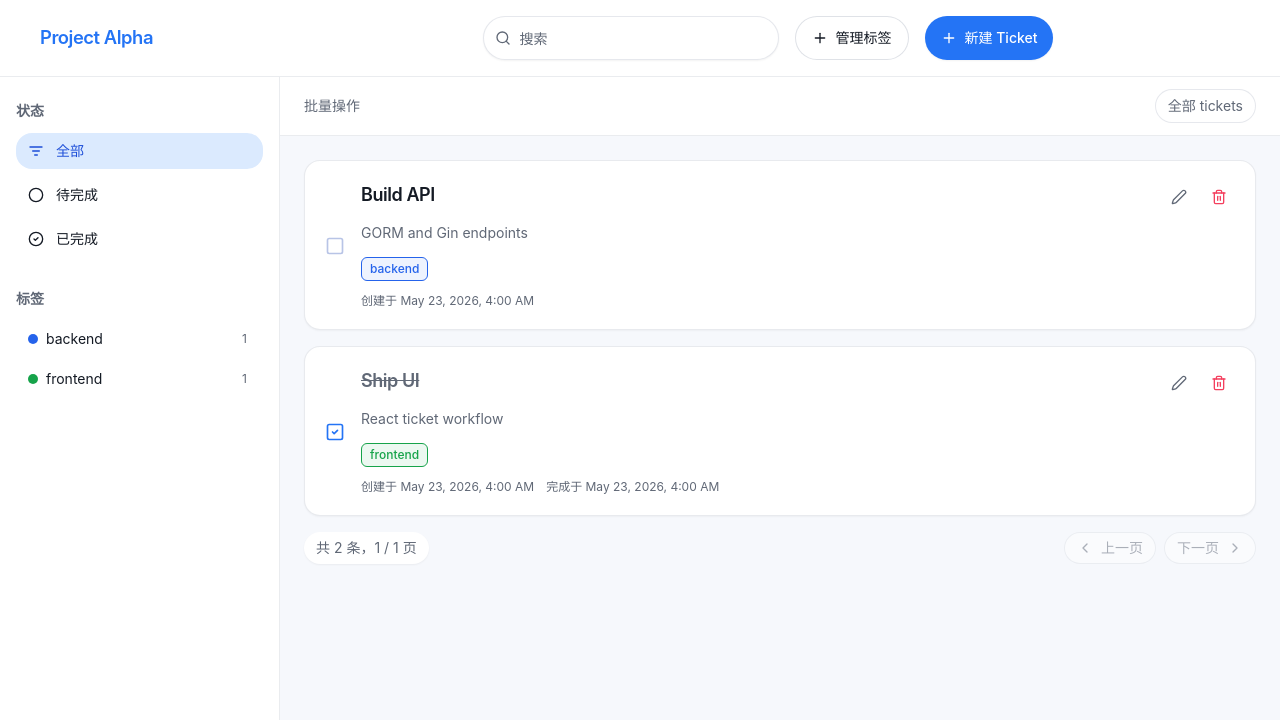
it: App › 按标签筛选 ticket
Expected: the button "Build API" is shown, [361,181,435,209]
What coordinates should you click on to do the following:
click the button "frontend 1"
I would click on:
 (138, 379)
Its box is [16,361,259,397].
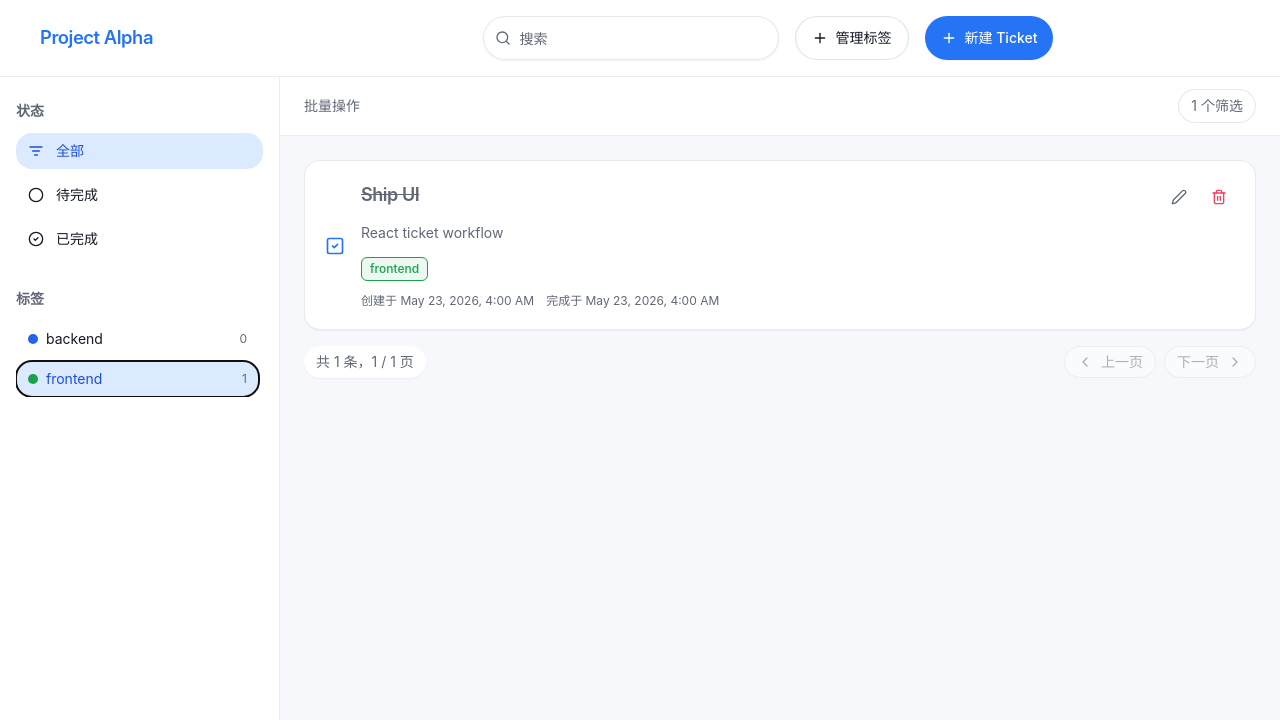
Expected: the button "Ship UI" is shown, [361,181,419,209]
Expected: the button "Build API" is gone
